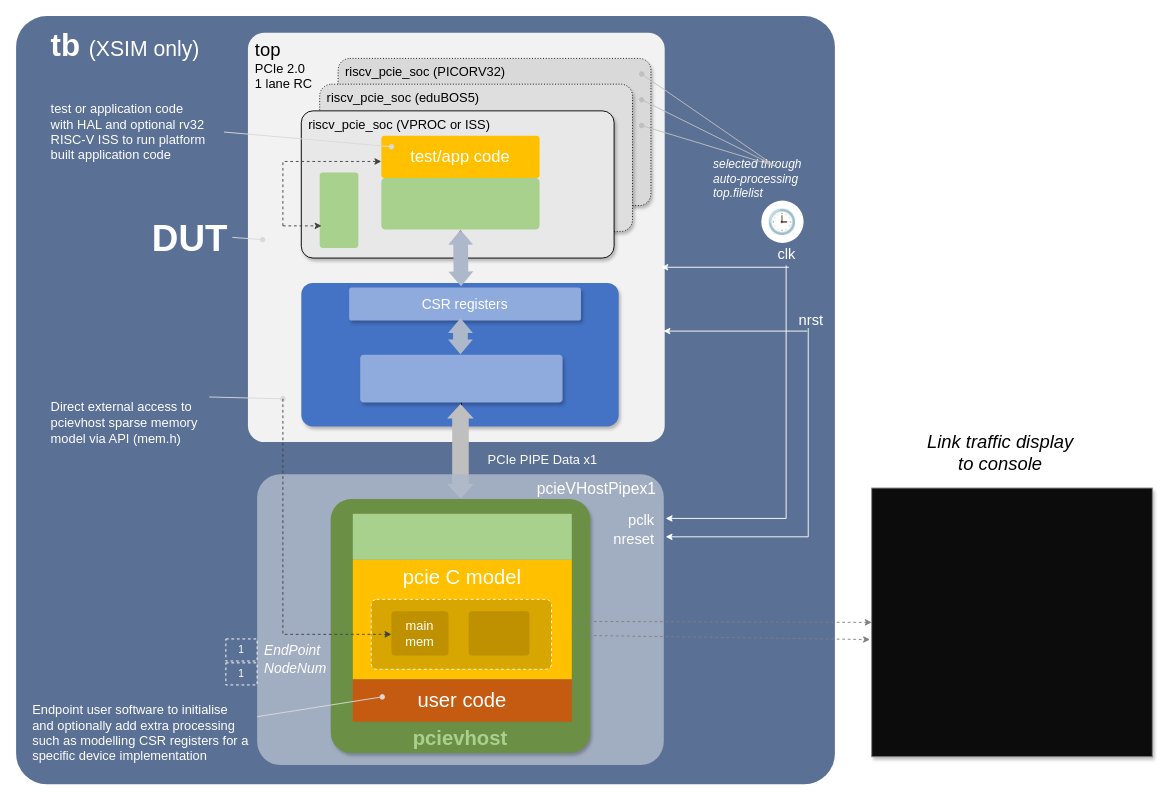
Image size: 1174x799. Some labels were removed from this diagram. The centre of each missing label's shape, as x and y in pixels:
"config space" belongs at [498,633].
"console DL / TL packets on the link, printed by pcievhost" belongs at [1012,623].
"mem model" belongs at [338,209].
"RTL + PCIE_2_1 (7Series Integrated HM)" belongs at [462,379].
"vproc (0)" belongs at [460,203].
"vproc (1)" belongs at [461,536].
